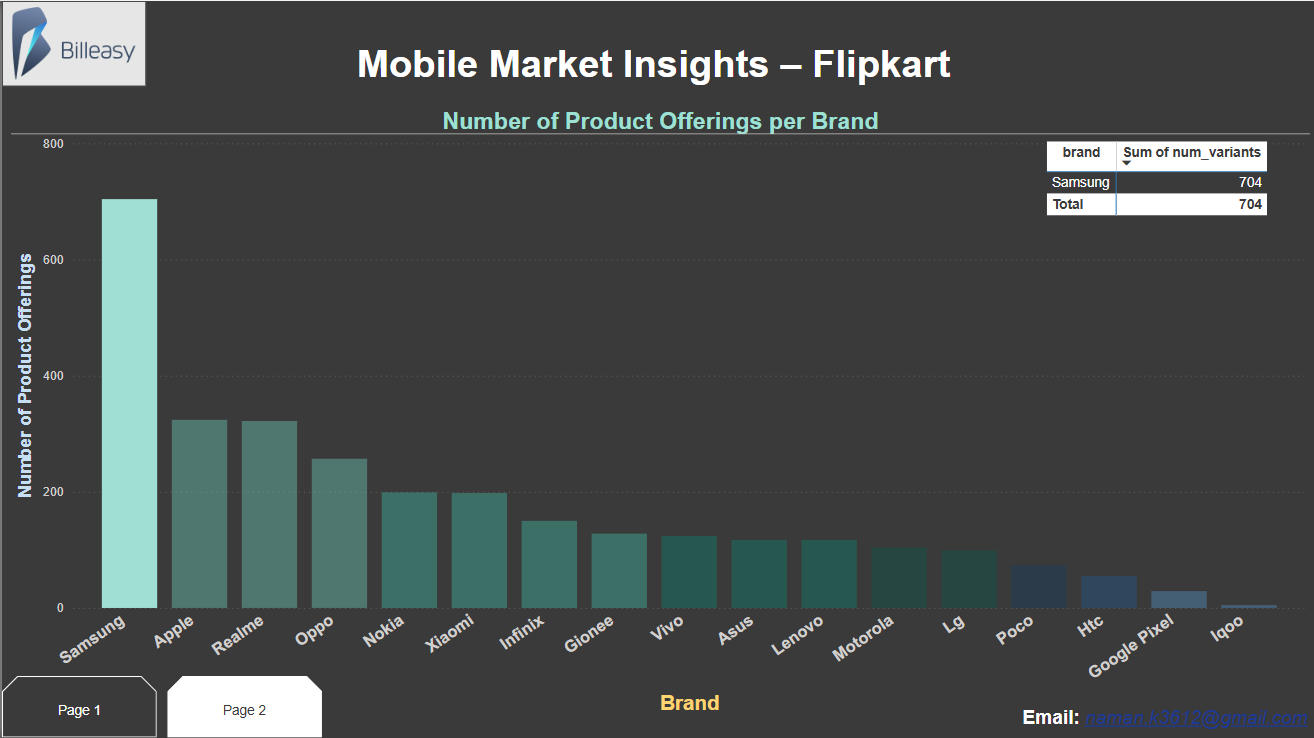

The dashboard page shown, as its layout file describes it:
{"tool":"powerbi","page":{"name":"Page 2","canvas":[1280,720],"ordinal":1},"visuals":[{"type":"image","box":[0,0,140.8,83.3],"z":0},{"type":"textbox","box":[975.1,682.9,304.4,36.3],"z":1000},{"type":"textbox","box":[313.4,33.3,655.7,71.2],"z":2000},{"type":"pageNavigator","box":[0,658.7,313.4,60.6],"z":3000},{"type":"columnChart","title":"Number of Product Offerings per Brand","fields":{"Category":["brand_model_summary.brand"],"Y":["Sum(brand_model_summary.num_variants)"]},"box":[9.1,104.5,1267.4,596.6],"z":4000},{"type":"pivotTable","fields":{"Rows":["brand_model_summary.brand"],"Values":["Sum(brand_model_summary.num_variants)"]},"box":[1014.5,131.7,265,478.5],"z":5000}]}

Visuals, with their boxes in screenshot pixels (x1, y1, x2, y2), scaled from the page's 1280x720 canvas onto the 1314x738 screenshot:
image: (0, 0, 145, 85)
textbox: (1001, 700, 1313, 737)
textbox: (322, 34, 995, 107)
pageNavigator: (0, 675, 322, 737)
"Number of Product Offerings per Brand" columnChart: (9, 107, 1310, 719)
pivotTable - brand_model_summary.brand x Sum(brand_model_summary.num_variants): (1041, 135, 1313, 625)
